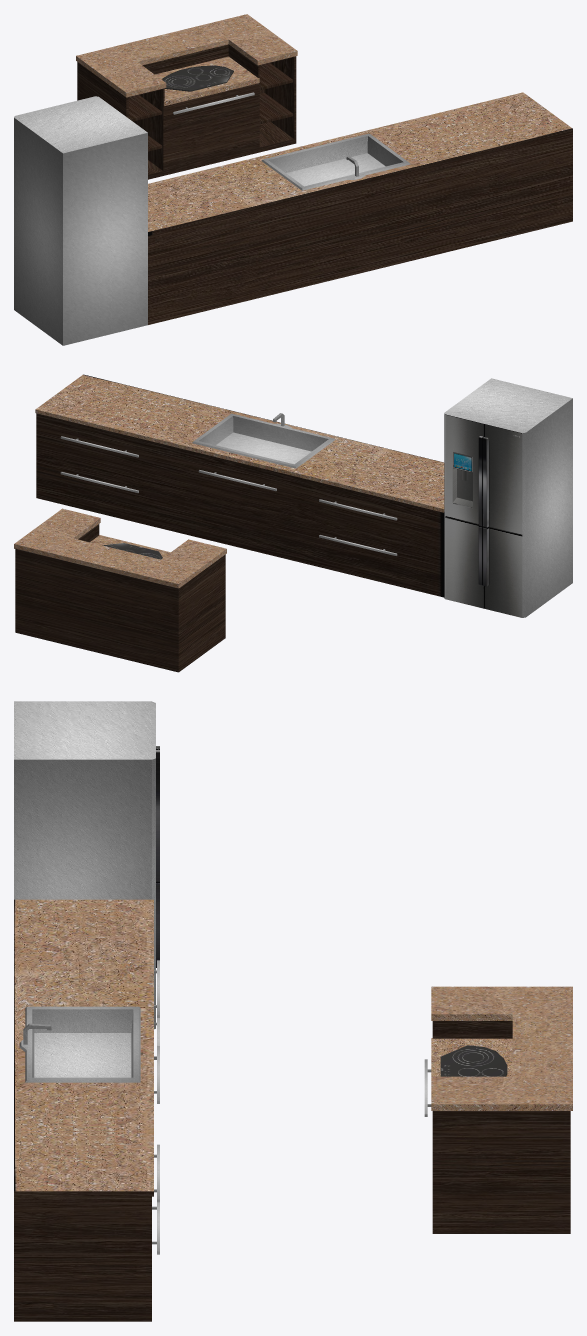
The model's file is Kitchen.obj.
The picture shows the model from 3 angles, top to bottom: view 1: azimuth 30°, elevation 25°; view 2: azimuth 150°, elevation 25°; view 3: azimuth 270°, elevation 25°; orthographic projection. The views are drawn at different scales.
Visible parts, largest first — view 1: Cube_Cube.003; view 2: Cube_Cube.003; view 3: Cube_Cube.003.
Boxes of the visible parts, left/top/right/bottom form: Cube_Cube.003: left=14, top=14, right=572, bottom=345; Cube_Cube.003: left=14, top=374, right=572, bottom=672; Cube_Cube.003: left=14, top=701, right=572, bottom=1321.
Bounding box in the file's own units: 7.83 × 2.82 × 5.29.
